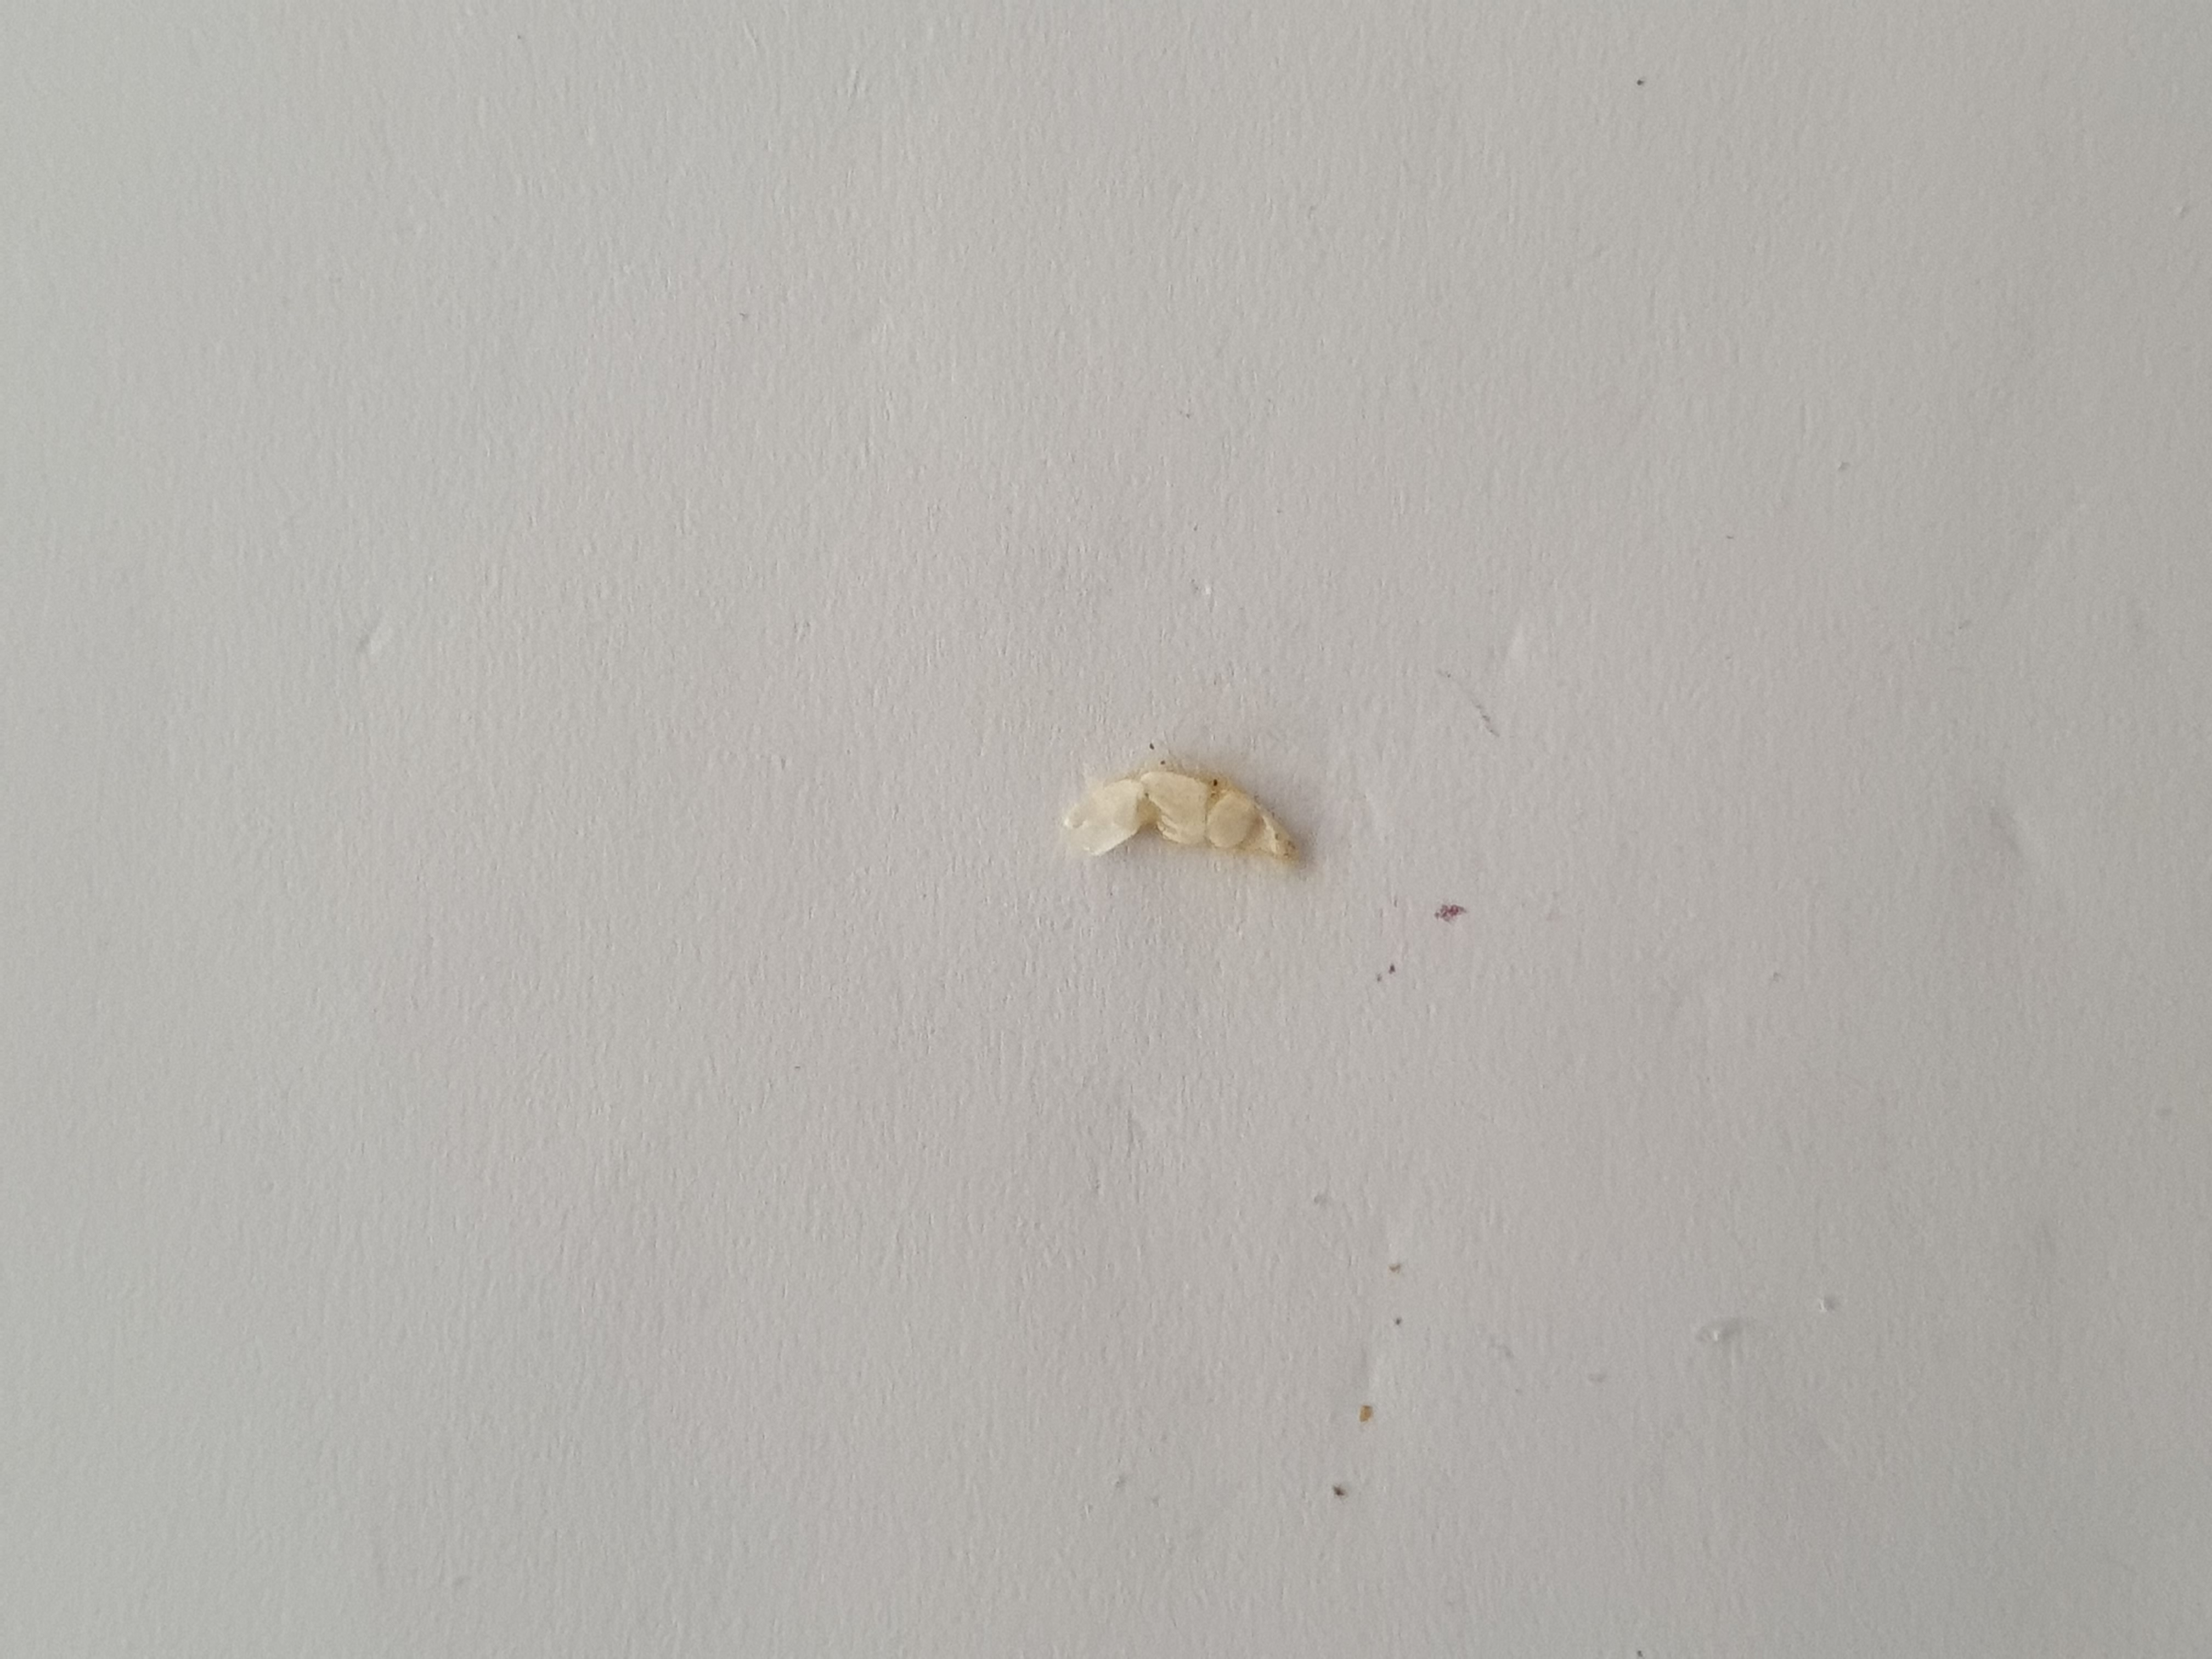plastic: (1026, 746, 1312, 884)
